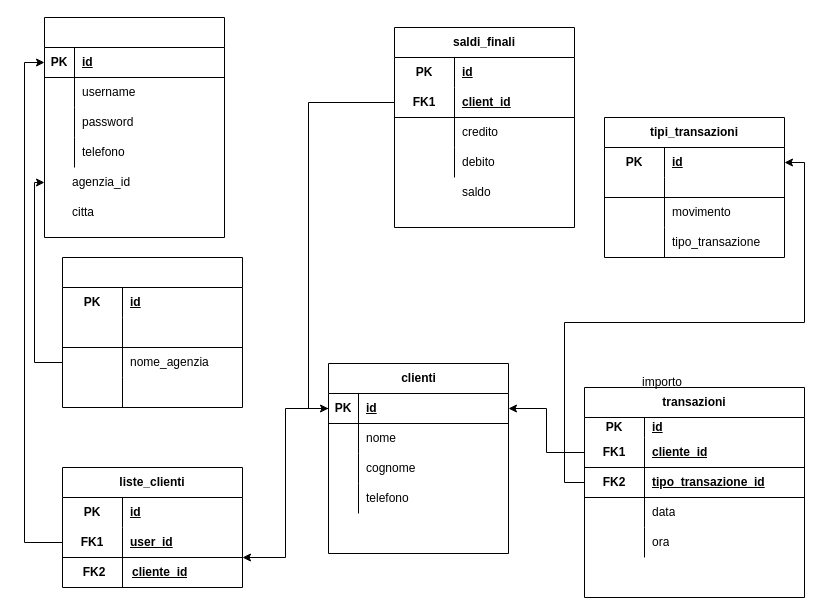
Some shapes in this 830 by 615 pixel diagram are drawn without their labels. The box of each missing label's shape, as (x1, y1, x2, y2) in pixels:
agenzie: (62, 256, 242, 408)
users: (44, 16, 224, 238)
